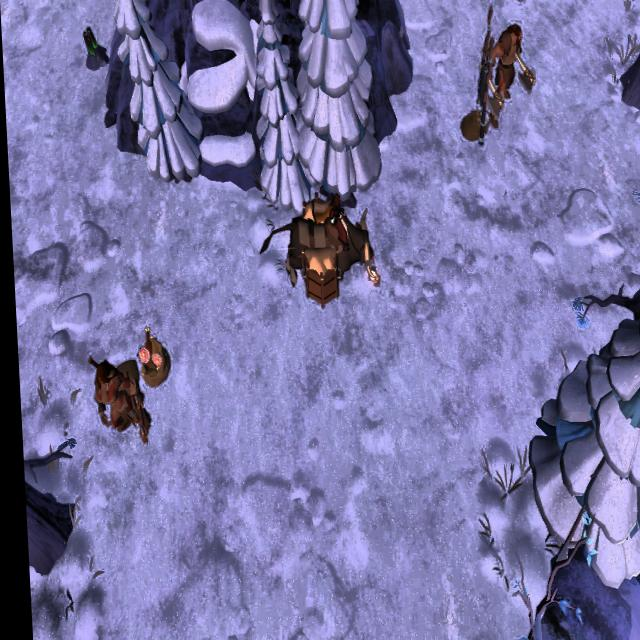enemy_factionKeeper: (487, 10, 537, 131), (85, 352, 141, 450)
ore_t3: (82, 22, 100, 61)
